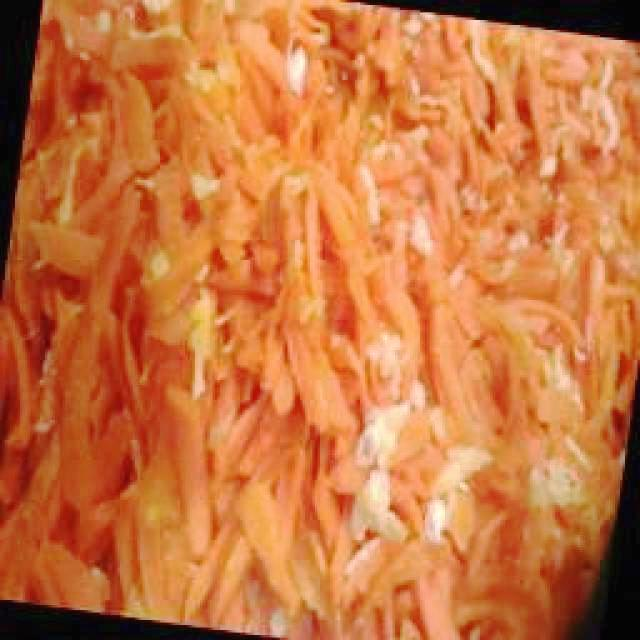carrot_eggs: (2, 0, 639, 632)
